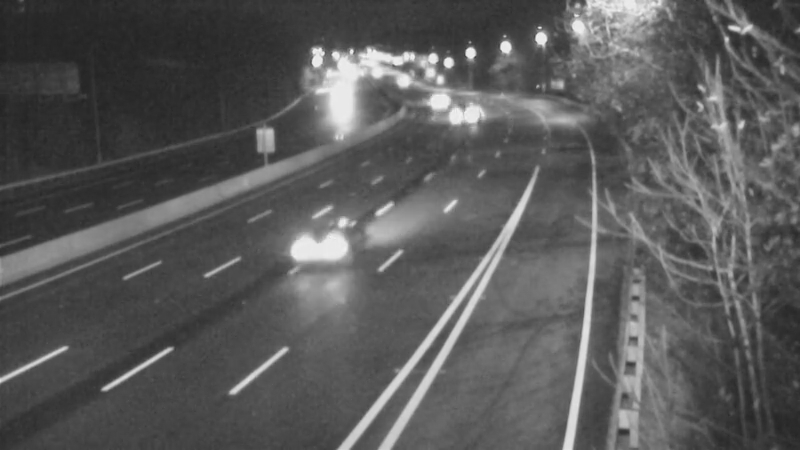vehicle: (291, 208, 371, 288), (376, 59, 426, 109), (411, 74, 461, 124), (438, 87, 488, 137), (311, 77, 361, 127)
